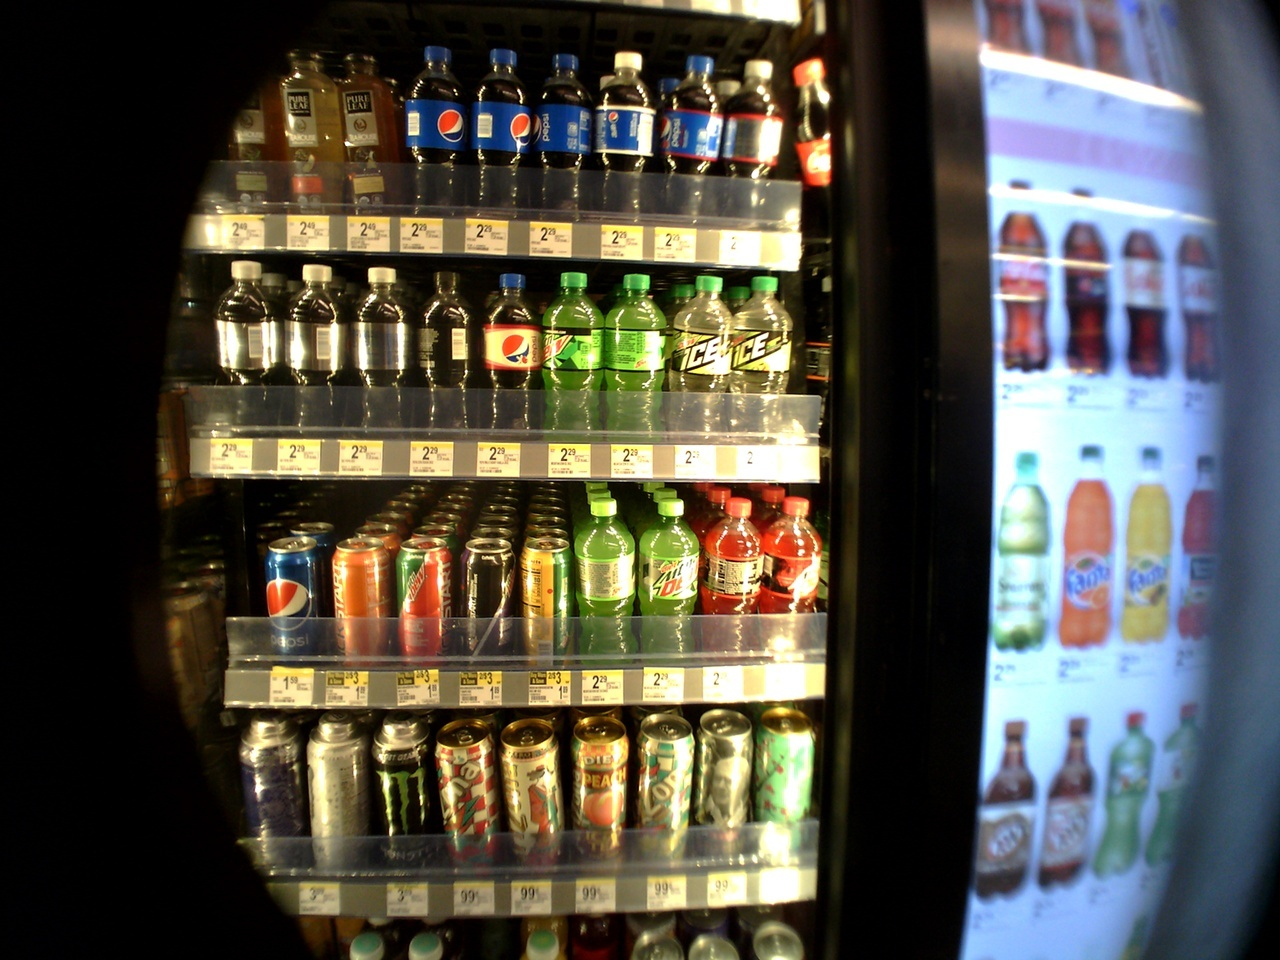shelf: (168, 248, 818, 484), (197, 14, 813, 258), (199, 708, 825, 907), (191, 493, 835, 685)
